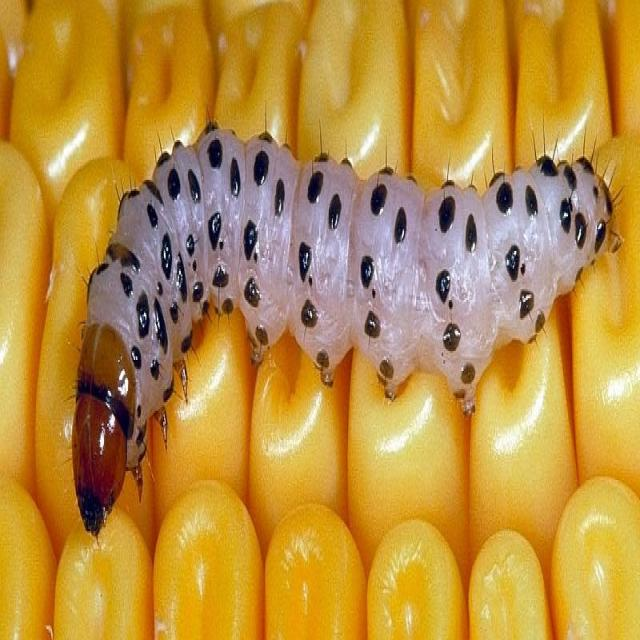cornborer-Larva-: (24, 56, 634, 566)
